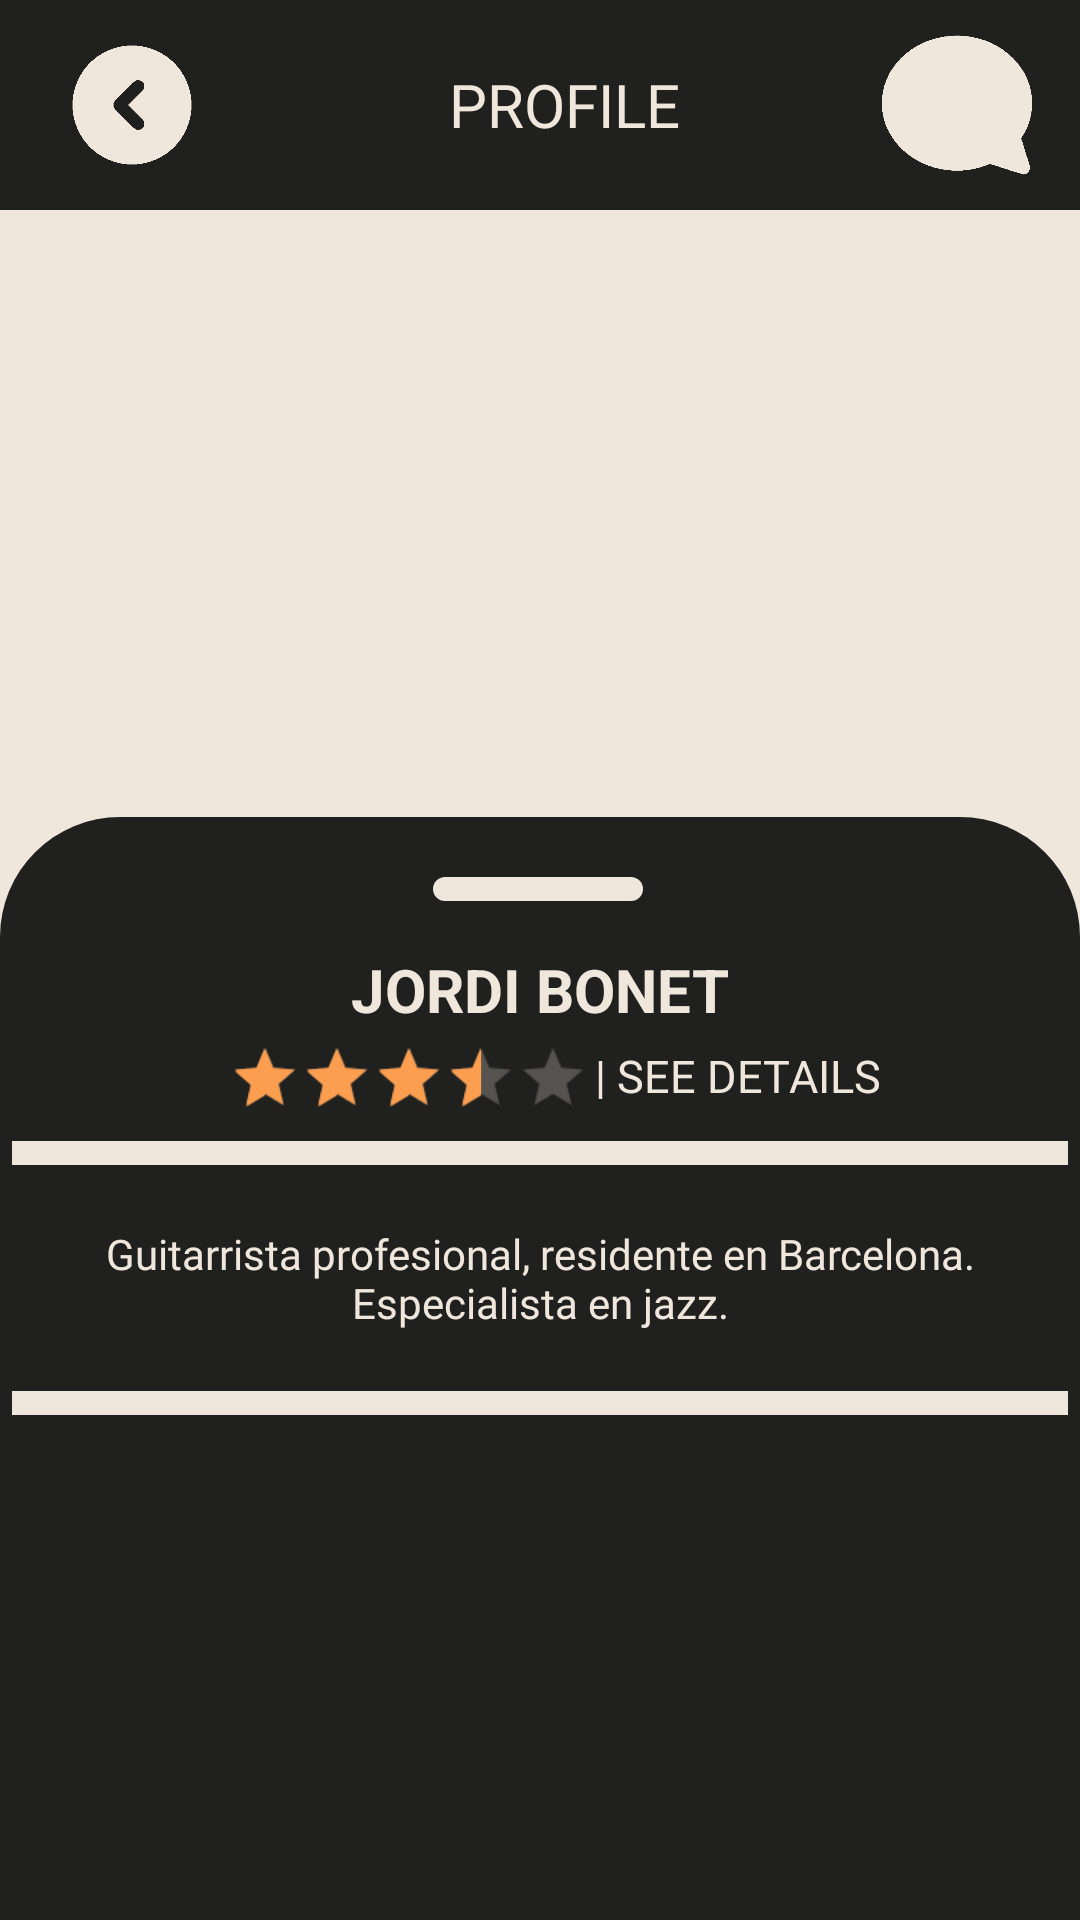

Point at icon controls on the screen. Image size 1080×1920, points as point (x, y).
message: point (957, 105)
